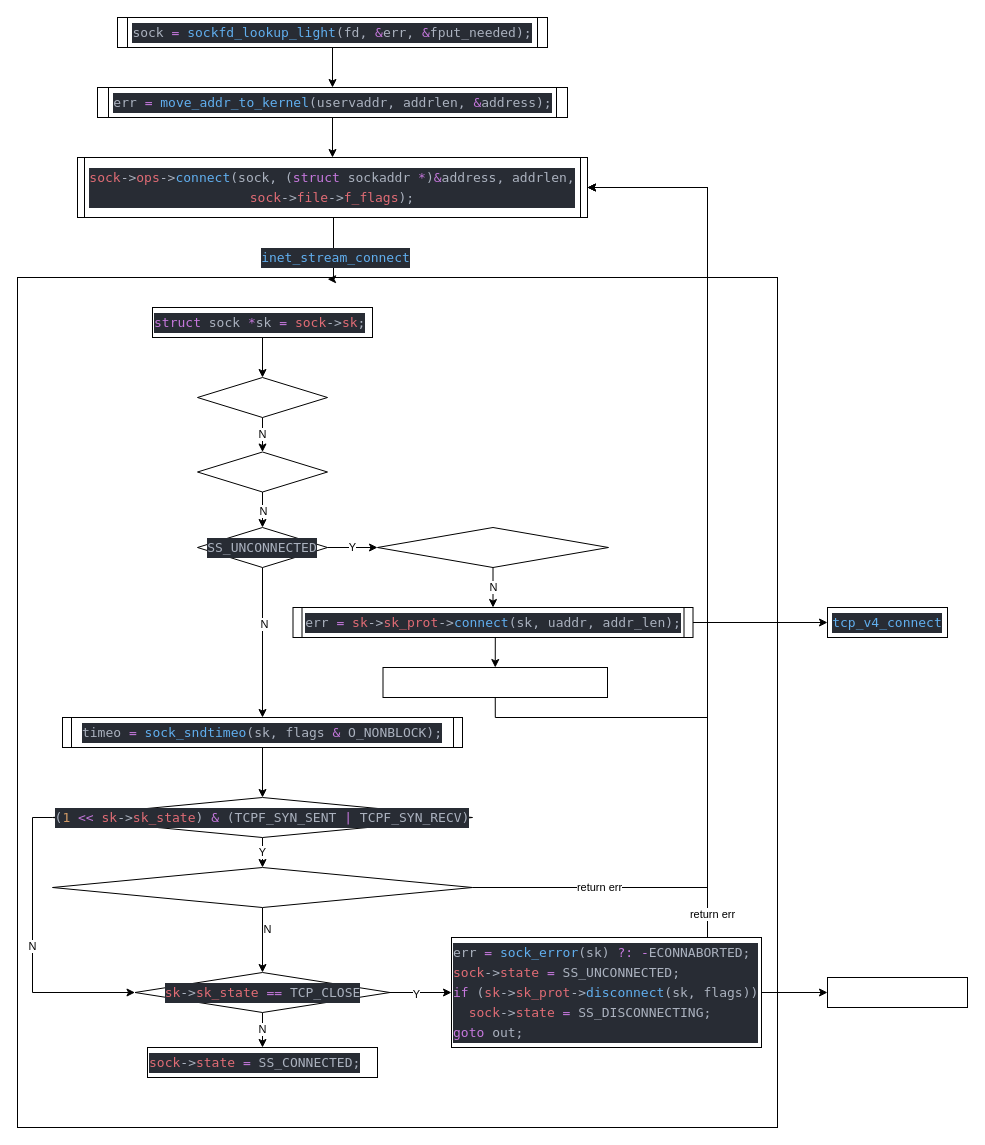
Some shapes in this 985 by 1145 pixel diagram are drawn without their labels. Each missing label, with the box of its shape:
sk -> sk_state != TCP_CLOSE: (376, 526, 608, 568)
sock -> state = SS_CONNECTING;: (382, 666, 608, 698)
sock -> state SS_CONNECTED: (196, 376, 328, 418)
SS_CONNECTING: (196, 451, 328, 492)
tcp_v4_disconnect: (826, 976, 968, 1008)
！inet_wait_for_connect (sk, timeo, writebias): (52, 866, 472, 908)
